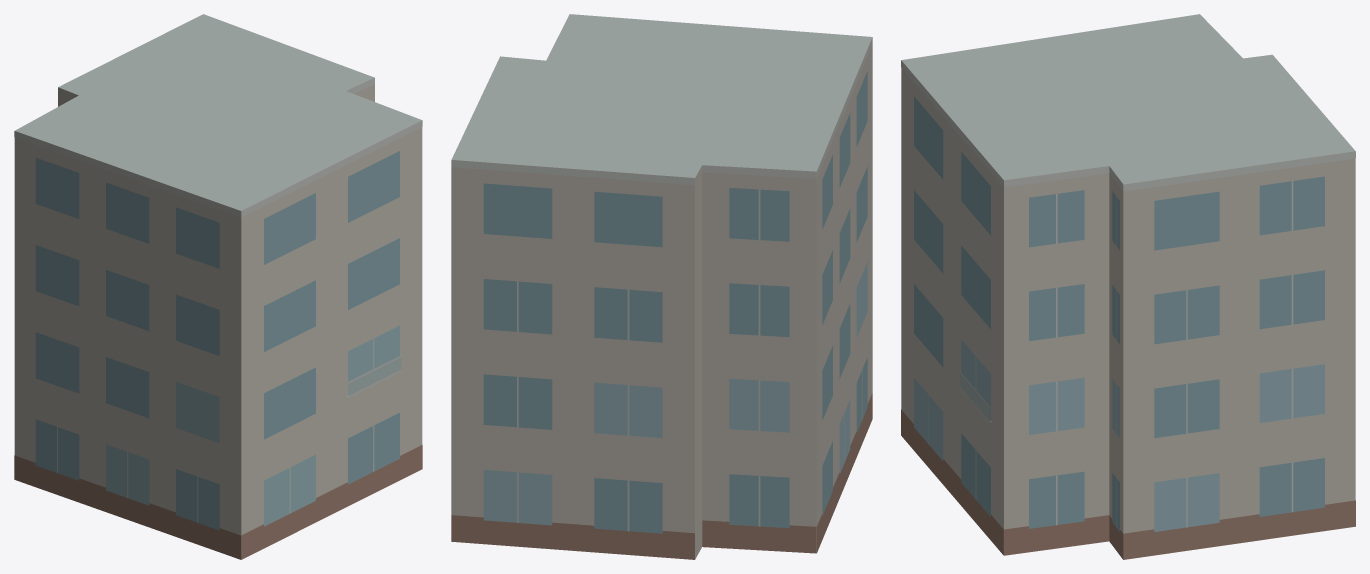
File: survey-upis-32855283.glb
The picture shows the model from 3 angles, left to right: view 1: azimuth 30°, elevation 25°; view 2: azimuth 150°, elevation 25°; view 3: azimuth 270°, elevation 25°; orthographic projection. The views are drawn at different scales.
Visible parts, largest first — view 1: survey-upis-32855283.tmp; view 2: survey-upis-32855283.tmp; view 3: survey-upis-32855283.tmp.
Part boxes in pixels (x1,y1,x2,y2): survey-upis-32855283.tmp: (14,14,422,559); survey-upis-32855283.tmp: (451,14,872,559); survey-upis-32855283.tmp: (901,14,1355,559).
Bounding box in the file's own units: 12.48 × 12.8 × 14.06.
